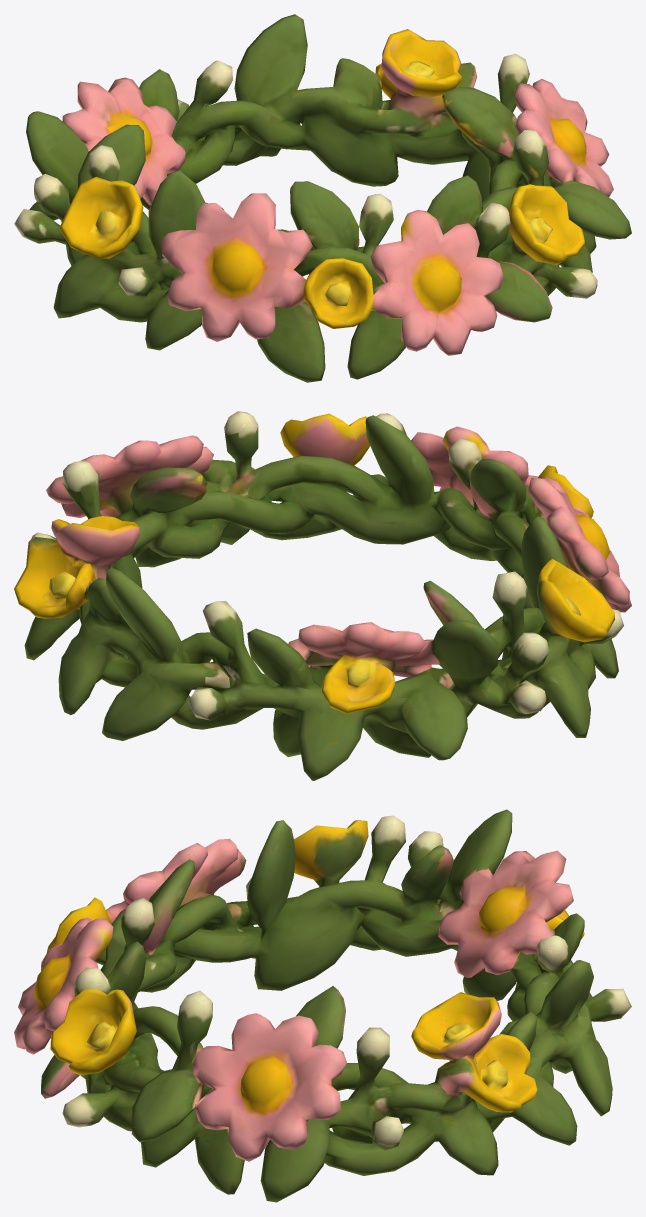
3 renders of one model, top to bottom at view 1: azimuth 30°, elevation 25°; view 2: azimuth 150°, elevation 25°; view 3: azimuth 270°, elevation 25°, orthographic. The views are drawn at different scales.
Parts seen in each view (by area): view 1: flower-crown; view 2: flower-crown; view 3: flower-crown.
Part boxes in pixels (x1=…): flower-crown: x1=14, y1=14, x2=631, y2=382; flower-crown: x1=14, y1=411, x2=631, y2=780; flower-crown: x1=14, y1=809, x2=631, y2=1202.
Size of the model in its own units: 0.2625 by 0.0783 by 0.2515.
1 material, 1 textured.
